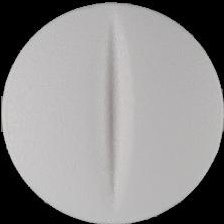66116-390: (0, 0, 224, 224)
